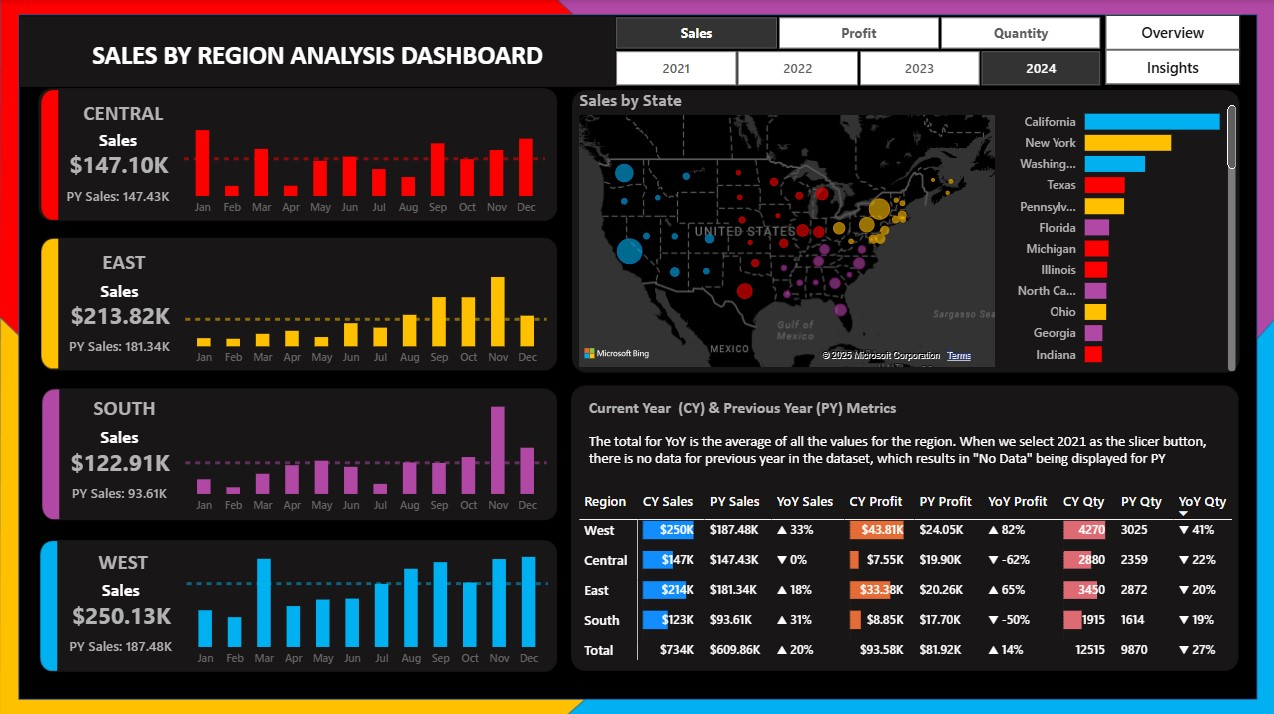

This screenshot's page, from the dashboard's own definition file:
{"tool":"powerbi","page":{"name":"Region Analysis","canvas":[1280,720],"ordinal":1},"visuals":[{"type":"slicer","fields":{"Values":["Select Metric.Select Metric"]},"box":[591.7,10.9,536,44.8],"z":0},{"type":"card","fields":{"Values":["Sales Data.Total Sales"]},"box":[58.4,144.9,120.8,42.1],"z":1000},{"type":"textbox","box":[57,94.6,133,46.1],"z":2000},{"type":"slicer","fields":{"Values":["Calendar Table.Year"]},"box":[591.7,44.8,536,47.5],"z":3000},{"type":"card","fields":{"Values":["Sales Data.Dynamic Title"]},"box":[80.1,124.5,76,33.9],"z":4000},{"type":"card","fields":{"Values":["Sales Data.PY KPI Value"]},"box":[58.4,184.2,119.4,27.1],"z":5000},{"type":"clusteredColumnChart","fields":{"Y":["Sales Data.Total Sales"],"Category":["Calendar Table.Month"]},"box":[179.1,90.6,371.8,134.4],"z":6000},{"type":"textbox","box":[19,16.3,598.5,70.6],"z":7000},{"type":"card","fields":{"Values":["Sales Data.Total Sales"]},"box":[59.3,296.2,120.8,42.1],"z":8000},{"type":"textbox","box":[57,243.9,134.4,50.2],"z":9000},{"type":"card","fields":{"Values":["Sales Data.Dynamic Title"]},"box":[81,275.8,76,33.9],"z":10000},{"type":"card","fields":{"Values":["Sales Data.Dynamic PY KPI Value"]},"box":[59.3,335.5,119.4,27.1],"z":11000},{"type":"clusteredColumnChart","fields":{"Y":["Sales Data.Total Sales"],"Category":["Calendar Table.Month"]},"box":[180.1,241.9,371.8,134.4],"z":12000},{"type":"card","fields":{"Values":["Sales Data.Total Sales"]},"box":[59.7,443.4,120.8,42.1],"z":13000},{"type":"textbox","box":[57.8,390.8,133,48.9],"z":14000},{"type":"card","fields":{"Values":["Sales Data.Dynamic Title"]},"box":[81.4,422.1,76,33.9],"z":15000},{"type":"card","fields":{"Values":["Sales Data.Dynamic PY KPI Value"]},"box":[59.7,482.8,119.4,27.1],"z":16000},{"type":"clusteredColumnChart","fields":{"Y":["Sales Data.Total Sales"],"Category":["Calendar Table.Month"]},"box":[180.5,389.1,371.8,134.4],"z":17000},{"type":"card","fields":{"Values":["Sales Data.Total Sales"]},"box":[61.1,597.4,120.8,42.1],"z":18000},{"type":"textbox","box":[56.8,545.5,133,50.2],"z":19000},{"type":"card","fields":{"Values":["Sales Data.Dynamic Title"]},"box":[82.8,575.4,76,33.9],"z":20000},{"type":"card","fields":{"Values":["Sales Data.Dynamic PY KPI Value"]},"box":[61.1,636.7,119.4,27.1],"z":21000},{"type":"clusteredColumnChart","fields":{"Y":["Sales Data.Total Sales"],"Category":["Calendar Table.Month"]},"box":[181.9,543.1,371.8,134.4],"z":22000},{"type":"map","fields":{"Size":["Sales Data.Total Sales"],"Category":["Sales Data.State/Province"],"Series":["Sales Data.Region"]},"box":[575.4,89.6,427.5,283.6],"z":23000},{"type":"barChart","fields":{"Y":["Sales Data.Total Sales"],"Category":["Sales Data.State/Province"],"Series":["Sales Data.Region"]},"box":[1002.9,91.9,241.6,285],"z":24000},{"type":"pivotTable","fields":{"Rows":["Sales Data.Region"],"Values":["Sales Data.CY Sales","Sales Data.PY Sales Display","Sales Data.YoY Sales","Sales Data.CY Profit","Sales Data.PY Profit","Sales Data.YoY Profit","Sales Data.CY Qty","Sales Data.PY Qty","Sales Data.YoY Qty"]},"box":[575.4,487.8,669,191.3],"z":25000},{"type":"textbox","box":[584.9,393.6,498,50.2],"z":26000},{"type":"textbox","box":[584.9,427.5,650,59.7],"z":27000},{"type":"pageNavigator","box":[1108.7,14.9,135.7,71.9],"z":28000}]}

Visuals, with their boxes in screenshot pixels (x1, y1, x2, y2), scaled from the page's 1280x720 canvas onto the 1274x714 screenshot:
slicer - Select Metric.Select Metric: {"left": 589, "top": 11, "right": 1122, "bottom": 55}
card - Sales Data.Total Sales: {"left": 58, "top": 144, "right": 178, "bottom": 185}
textbox: {"left": 57, "top": 94, "right": 189, "bottom": 140}
slicer - Calendar Table.Year: {"left": 589, "top": 44, "right": 1122, "bottom": 92}
card - Sales Data.Dynamic Title: {"left": 80, "top": 123, "right": 155, "bottom": 157}
card - Sales Data.PY KPI Value: {"left": 58, "top": 183, "right": 177, "bottom": 210}
clusteredColumnChart - Sales Data.Total Sales x Calendar Table.Month: {"left": 178, "top": 90, "right": 548, "bottom": 223}
textbox: {"left": 19, "top": 16, "right": 615, "bottom": 86}
card - Sales Data.Total Sales: {"left": 59, "top": 294, "right": 179, "bottom": 335}
textbox: {"left": 57, "top": 242, "right": 191, "bottom": 292}
card - Sales Data.Dynamic Title: {"left": 81, "top": 274, "right": 156, "bottom": 307}
card - Sales Data.Dynamic PY KPI Value: {"left": 59, "top": 333, "right": 178, "bottom": 360}
clusteredColumnChart - Sales Data.Total Sales x Calendar Table.Month: {"left": 179, "top": 240, "right": 549, "bottom": 373}
card - Sales Data.Total Sales: {"left": 59, "top": 440, "right": 180, "bottom": 481}
textbox: {"left": 58, "top": 388, "right": 190, "bottom": 436}
card - Sales Data.Dynamic Title: {"left": 81, "top": 419, "right": 157, "bottom": 452}
card - Sales Data.Dynamic PY KPI Value: {"left": 59, "top": 479, "right": 178, "bottom": 506}
clusteredColumnChart - Sales Data.Total Sales x Calendar Table.Month: {"left": 180, "top": 386, "right": 550, "bottom": 519}
card - Sales Data.Total Sales: {"left": 61, "top": 592, "right": 181, "bottom": 634}
textbox: {"left": 57, "top": 541, "right": 189, "bottom": 591}
card - Sales Data.Dynamic Title: {"left": 82, "top": 571, "right": 158, "bottom": 604}
card - Sales Data.Dynamic PY KPI Value: {"left": 61, "top": 631, "right": 180, "bottom": 658}
clusteredColumnChart - Sales Data.Total Sales x Calendar Table.Month: {"left": 181, "top": 539, "right": 551, "bottom": 672}
map - Sales Data.Total Sales x Sales Data.State/Province: {"left": 573, "top": 89, "right": 998, "bottom": 370}
barChart - Sales Data.Total Sales x Sales Data.State/Province: {"left": 998, "top": 91, "right": 1239, "bottom": 374}
pivotTable - Sales Data.Region x Sales Data.CY Sales: {"left": 573, "top": 484, "right": 1239, "bottom": 673}
textbox: {"left": 582, "top": 390, "right": 1078, "bottom": 440}
textbox: {"left": 582, "top": 424, "right": 1229, "bottom": 483}
pageNavigator: {"left": 1104, "top": 15, "right": 1239, "bottom": 86}
